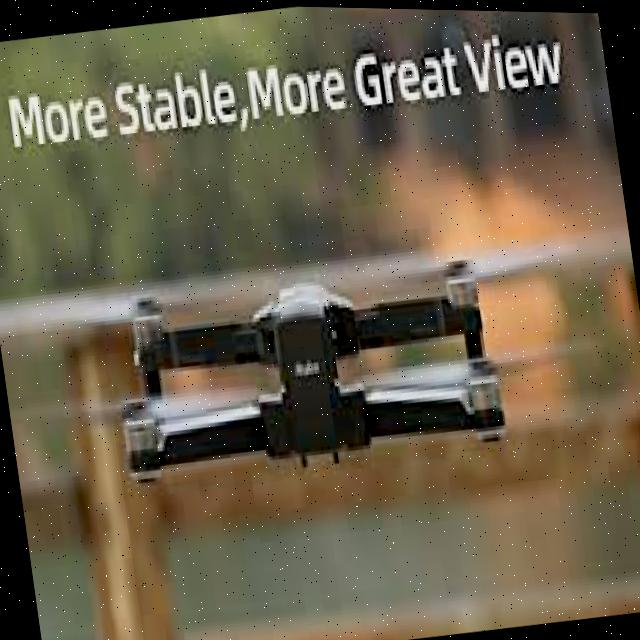drone: (44, 209, 599, 535)
